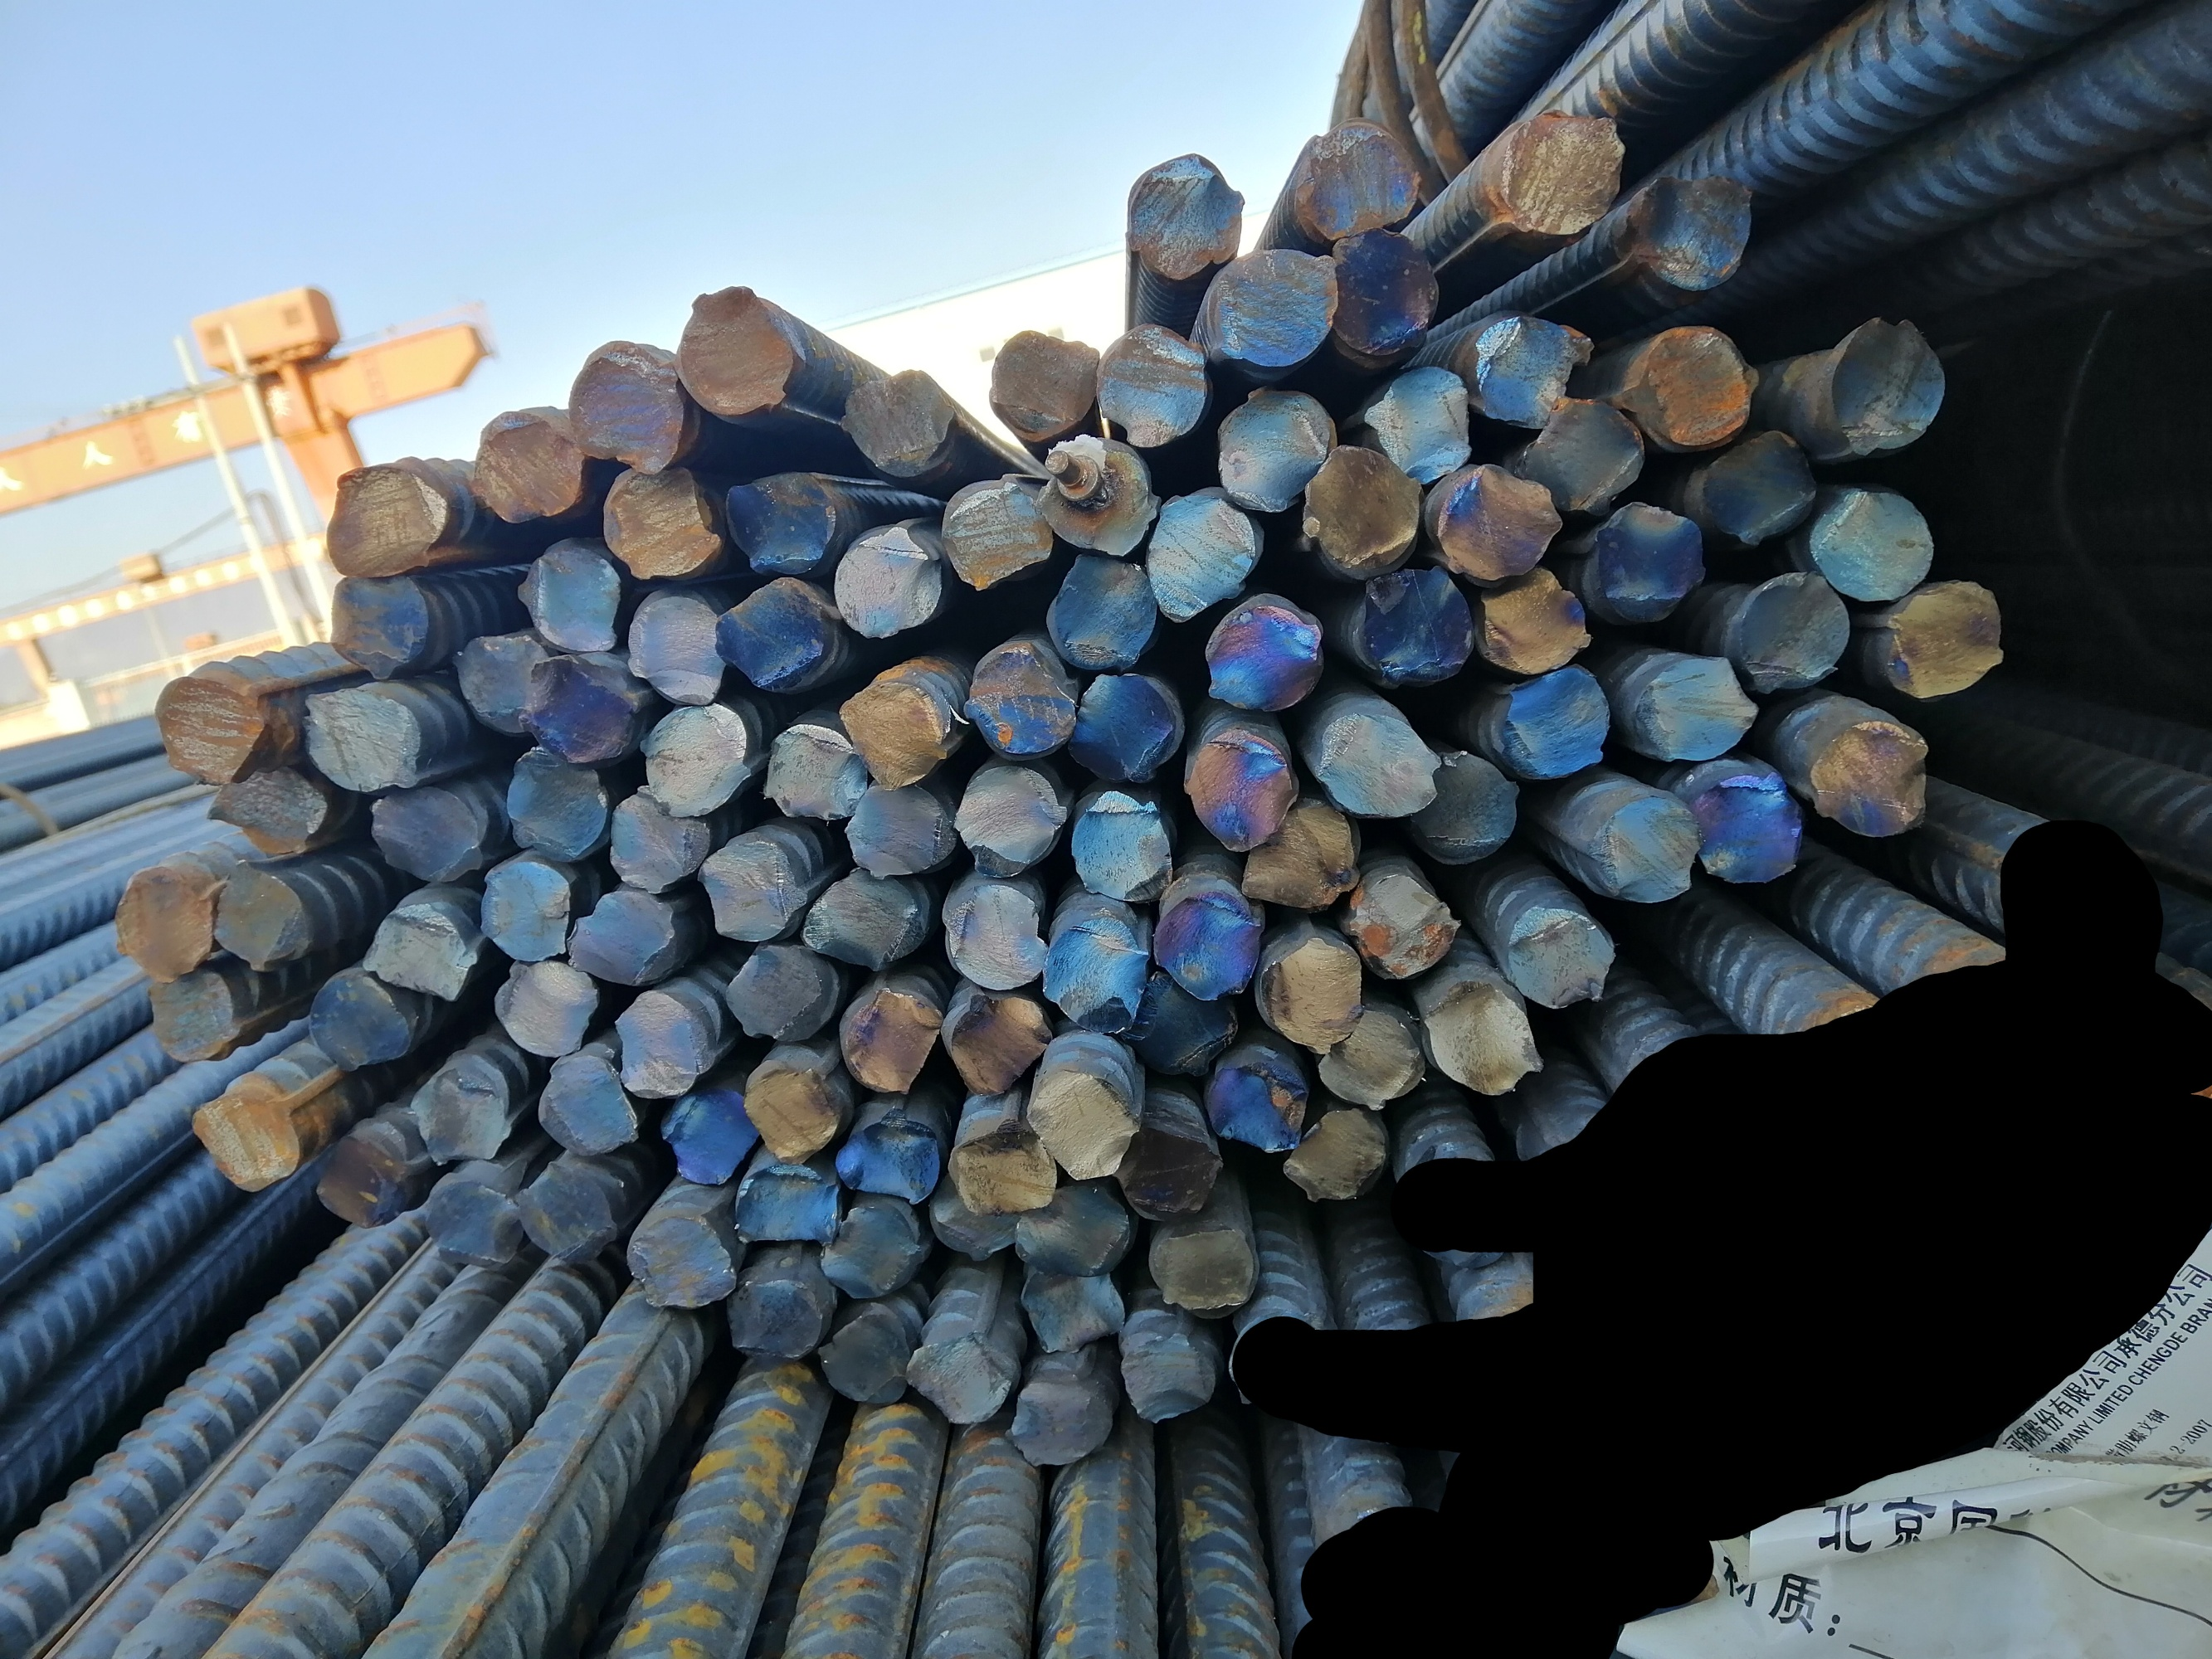rebar: (1478, 106, 1630, 240), (1822, 310, 1952, 458), (568, 335, 692, 483), (1210, 380, 1340, 519), (673, 279, 798, 422), (1727, 561, 1855, 699), (1621, 322, 1761, 448), (1288, 117, 1426, 242), (1201, 247, 1340, 371), (1426, 458, 1564, 580), (1143, 484, 1262, 626), (1520, 390, 1649, 519), (1625, 169, 1754, 296), (1178, 725, 1302, 857), (1121, 152, 1246, 281), (1039, 425, 1159, 559), (1464, 310, 1595, 429), (1203, 589, 1325, 714), (1093, 324, 1211, 453), (1354, 559, 1478, 681), (1588, 498, 1706, 626), (1325, 227, 1442, 356), (1304, 443, 1419, 573), (1883, 579, 2006, 699), (1811, 716, 1931, 840), (324, 460, 450, 579), (1808, 484, 1935, 601), (300, 681, 429, 796), (514, 652, 641, 767), (1630, 655, 1762, 765), (1358, 364, 1478, 484), (467, 408, 589, 526), (146, 666, 267, 784), (600, 464, 720, 582), (1422, 978, 1544, 1094), (1492, 666, 1616, 781), (638, 699, 755, 819), (943, 471, 1056, 594), (966, 633, 1079, 756), (1584, 789, 1703, 906), (837, 671, 952, 791), (1021, 1070, 1143, 1183), (1048, 549, 1159, 673), (1313, 711, 1440, 819), (1687, 770, 1802, 889), (368, 779, 492, 889), (835, 514, 943, 640), (713, 572, 830, 687), (990, 328, 1105, 444), (692, 824, 807, 941), (1063, 673, 1180, 788), (1243, 798, 1361, 911), (1006, 1173, 1131, 1279), (1042, 906, 1147, 1033), (190, 1079, 305, 1194), (842, 362, 957, 477), (1703, 425, 1816, 542), (953, 765, 1067, 880), (1154, 889, 1265, 1006), (502, 739, 608, 861), (800, 868, 924, 972), (1344, 875, 1461, 985), (1504, 904, 1623, 1012), (363, 899, 483, 1006), (518, 535, 622, 657), (1475, 566, 1591, 674), (1408, 749, 1525, 857), (725, 939, 844, 1046), (1072, 788, 1178, 906), (1262, 936, 1368, 1054), (941, 880, 1053, 992), (945, 988, 1055, 1101), (112, 863, 214, 983), (561, 884, 682, 986), (725, 464, 837, 573), (1112, 1107, 1222, 1218), (1002, 1366, 1117, 1473), (309, 965, 418, 1075), (605, 782, 711, 896), (612, 988, 718, 1101), (328, 572, 432, 687), (408, 1056, 512, 1169), (516, 1152, 619, 1267), (626, 591, 725, 709), (1130, 974, 1243, 1077), (493, 957, 600, 1065), (1279, 1101, 1391, 1204), (206, 765, 329, 857), (840, 979, 940, 1094), (622, 1209, 734, 1310), (1318, 1006, 1428, 1107), (214, 859, 309, 976), (535, 1051, 640, 1155), (905, 1328, 1014, 1427), (847, 777, 950, 882), (840, 1100, 945, 1202), (1203, 1054, 1307, 1157), (1121, 1323, 1222, 1429), (765, 720, 868, 823), (450, 626, 551, 730), (310, 1124, 410, 1230), (950, 1121, 1058, 1218), (744, 1058, 840, 1166), (736, 1155, 845, 1249), (823, 1201, 924, 1302), (814, 1305, 917, 1405), (422, 1175, 525, 1272), (479, 856, 572, 964), (664, 1087, 763, 1187), (1149, 1227, 1259, 1316), (141, 967, 241, 1065), (1020, 1272, 1128, 1354), (732, 1276, 830, 1363), (929, 1183, 1018, 1260)
